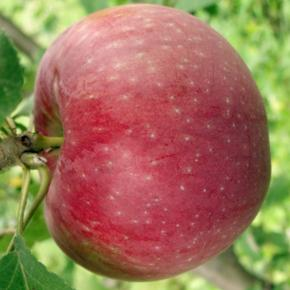apple: (0, 0, 290, 290)
